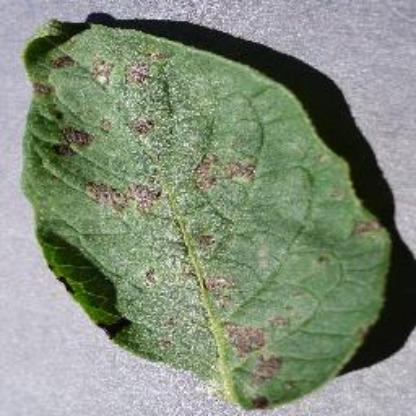Early-Blight: (11, 9, 408, 414)
